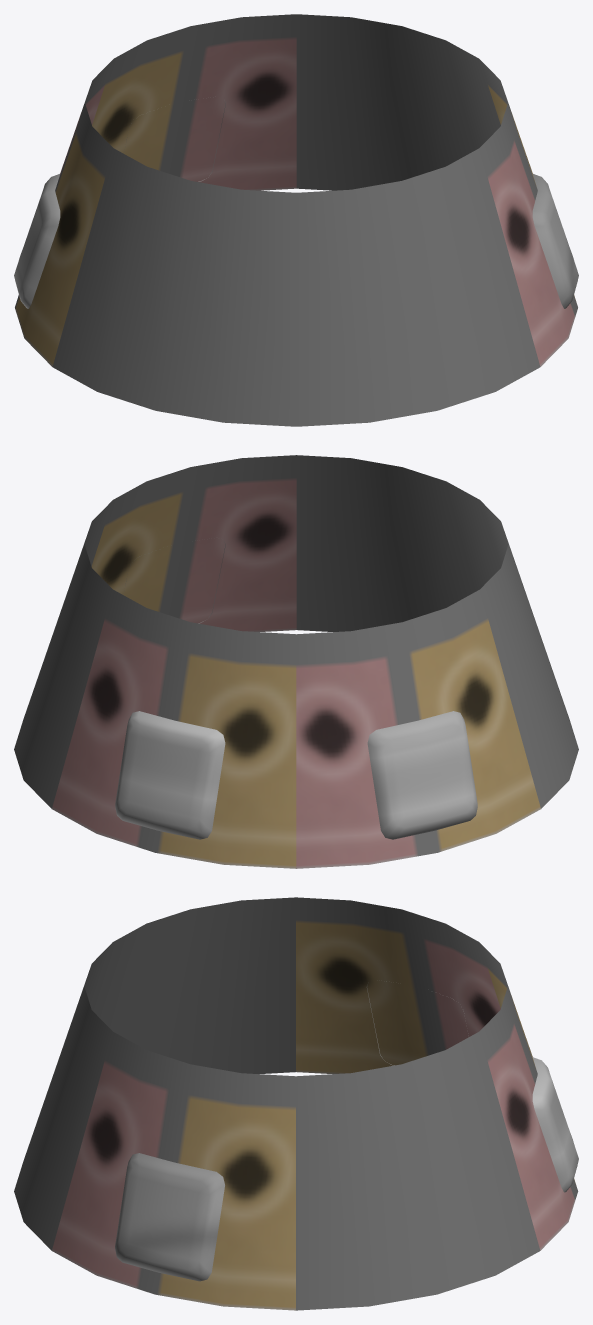
File: eridani_adapter_s1_s0p5_1.obj
3 views of the same model, one above another, from view 1: azimuth 30°, elevation 25°; view 2: azimuth 150°, elevation 25°; view 3: azimuth 270°, elevation 25° (orthographic).
Parts seen in each view (by area): view 1: mesh1; view 2: mesh1; view 3: mesh1.
Boxes of the visible parts, left/top/right/bottom form: mesh1: left=14, top=14, right=578, bottom=426; mesh1: left=14, top=455, right=578, bottom=868; mesh1: left=14, top=897, right=578, bottom=1310.
Size of the model in its own units: 1.25 by 0.5 by 1.25.
Materials: 1 (1 with a texture image).
